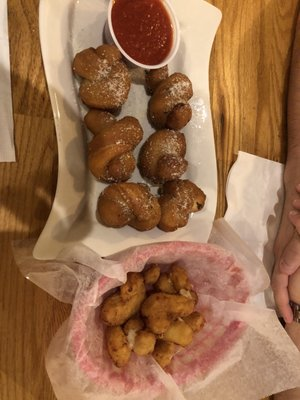sushi: (103, 0, 181, 71)
